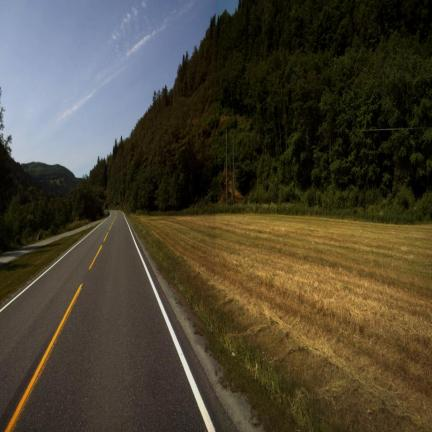Road: (0, 212, 230, 430)
